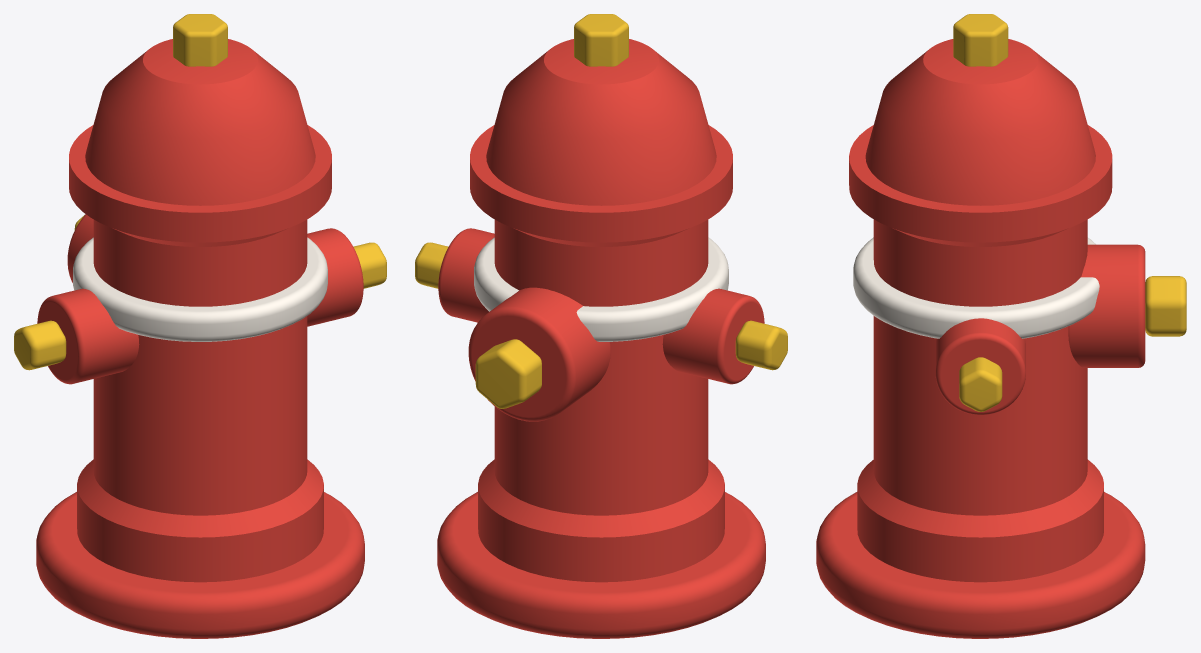
Rendered from hydrant.glb.
3 renders of one model, left to right at view 1: azimuth 30°, elevation 25°; view 2: azimuth 150°, elevation 25°; view 3: azimuth 270°, elevation 25°, orthographic.
Parts seen in each view (by area): view 1: hydrant; view 2: hydrant; view 3: hydrant.
Part boxes in pixels (x1=…): hydrant: x1=14, y1=14, x2=386, y2=638; hydrant: x1=415, y1=14, x2=787, y2=638; hydrant: x1=816, y1=14, x2=1186, y2=638.
Bounding box in the file's own units: 0.5 × 0.74 × 0.4496.
Materials: 1 (1 with a texture image).
